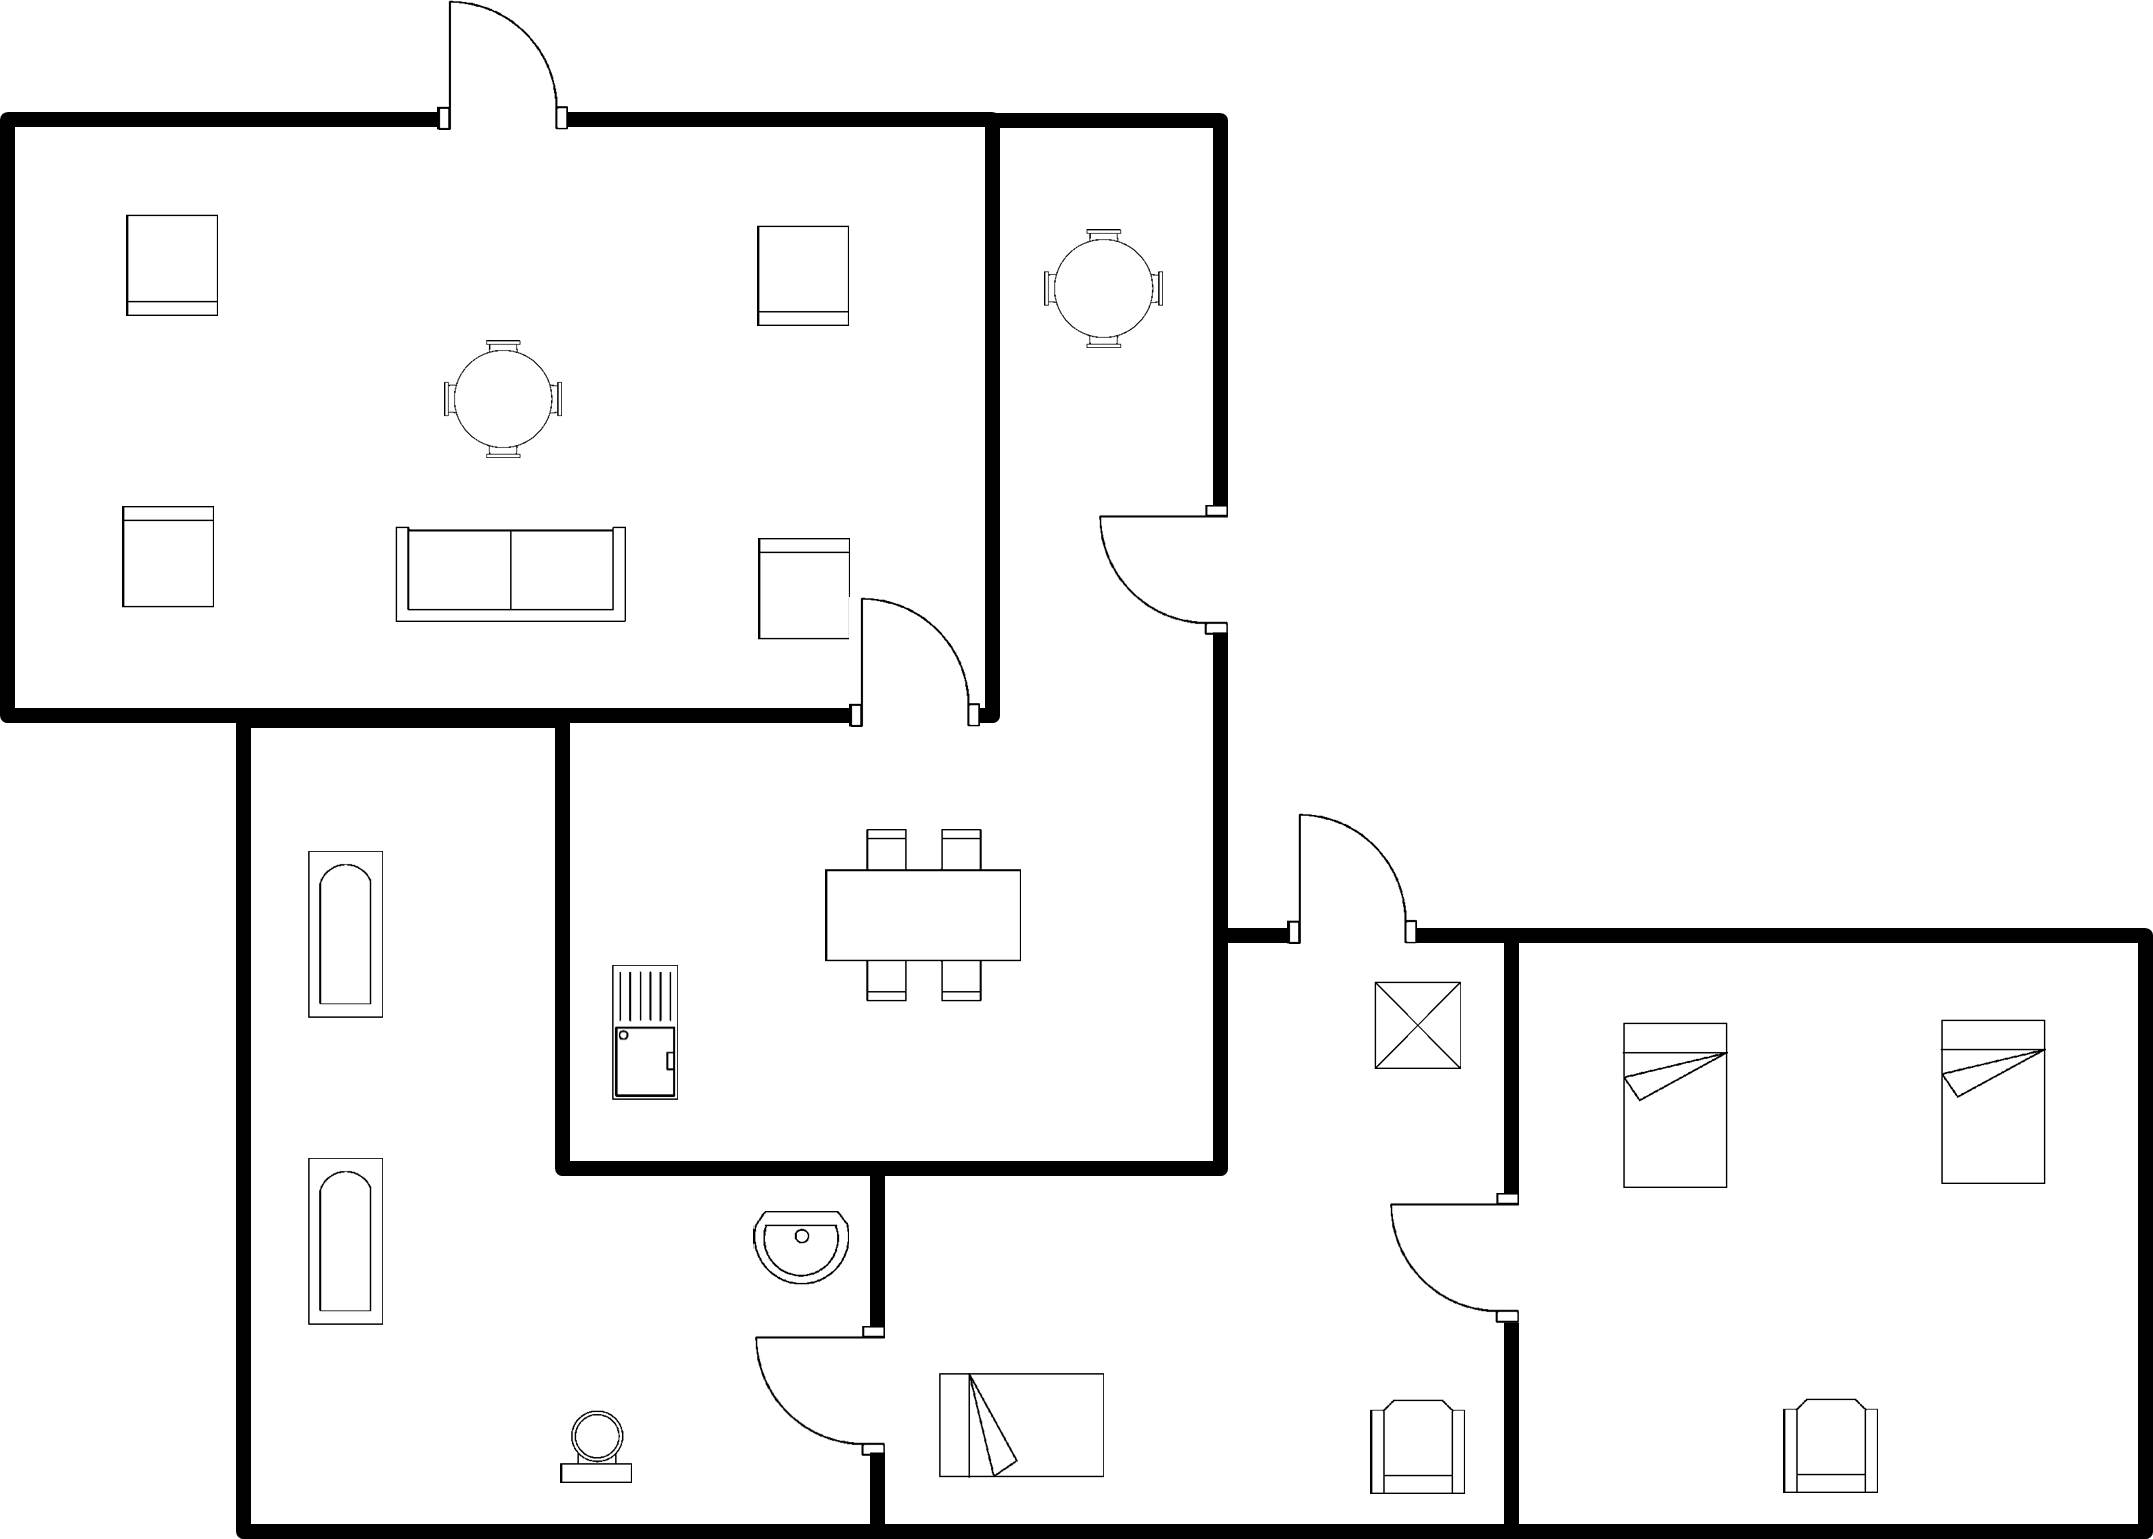armchair: (1771, 1383, 1891, 1501), (1358, 1392, 1475, 1504)
bed: (926, 1357, 1123, 1490), (1927, 1006, 2061, 1198), (1611, 1012, 1741, 1203)
coffee_table: (1361, 969, 1472, 1083)
dining_table: (811, 820, 1035, 1012)
large_sink: (549, 1401, 647, 1497)
large_sofa: (381, 517, 638, 633)
round_table: (1032, 217, 1177, 364), (426, 327, 577, 467)
sink: (600, 958, 689, 1109)
small_sink: (738, 1198, 857, 1293)
small_sofa: (111, 197, 231, 330), (109, 495, 224, 624), (744, 213, 863, 338), (744, 527, 858, 650)
tub: (295, 1144, 395, 1343), (298, 840, 397, 1029)
